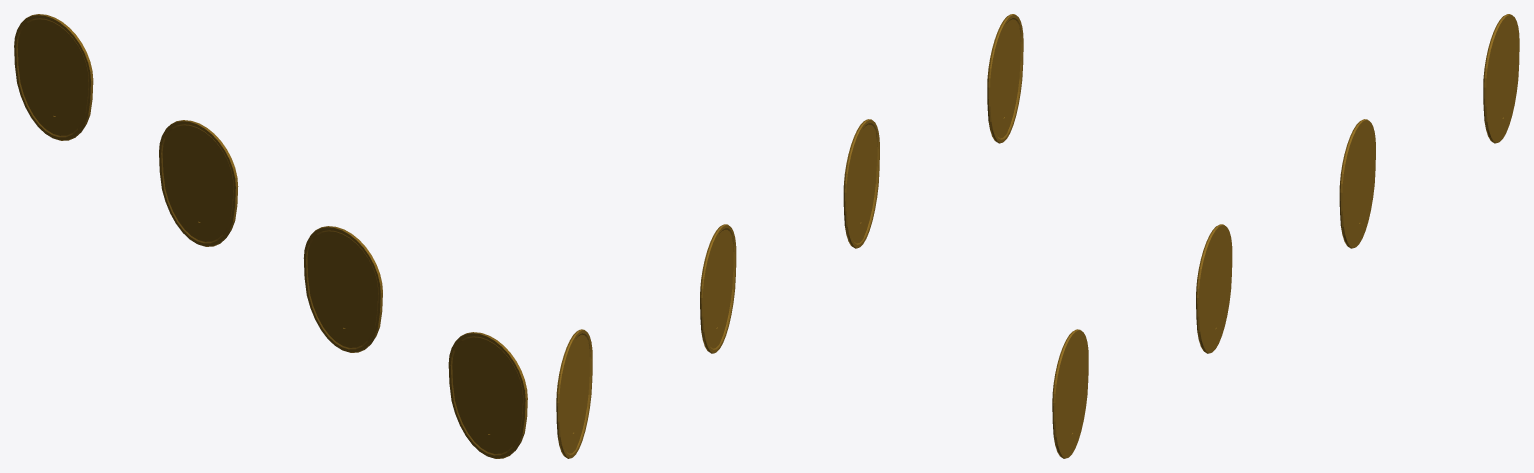
File: 07_openskp_material_126.obj
3 views of the same model, side by side, from view 1: azimuth 30°, elevation 25°; view 2: azimuth 150°, elevation 25°; view 3: azimuth 330°, elevation 25° (orthographic).
Visible parts, largest first — view 1: 07_openskp_material_126; view 2: 07_openskp_material_126; view 3: 07_openskp_material_126.
Boxes of the visible parts, <box> form: 07_openskp_material_126: <box>14,14,527,458</box>; 07_openskp_material_126: <box>556,14,1023,458</box>; 07_openskp_material_126: <box>1052,14,1519,458</box>.
Size of the model in its own units: 1.49 by 7.11 by 52.12.
